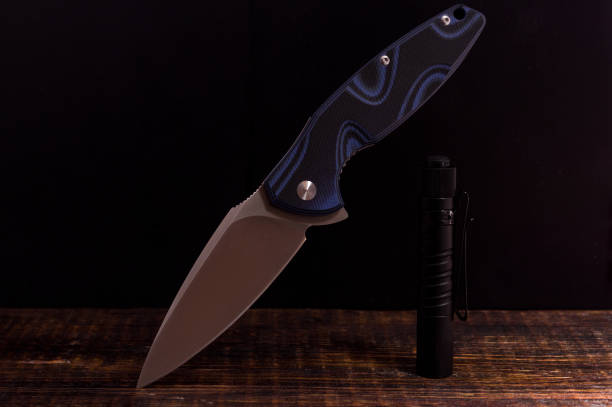knife: (132, 1, 490, 391)
